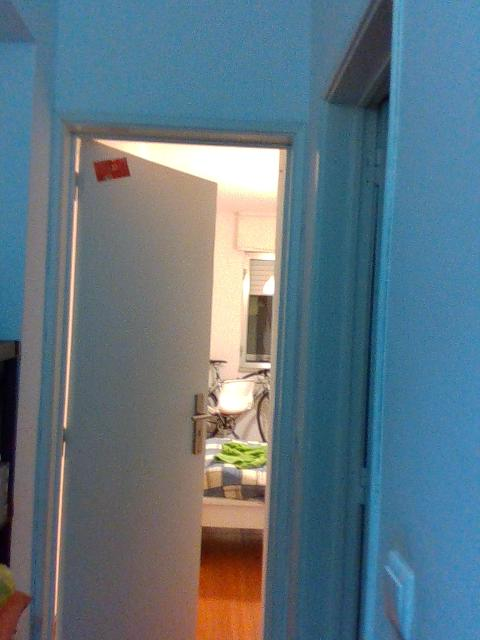semi_door: (28, 103, 308, 639)
